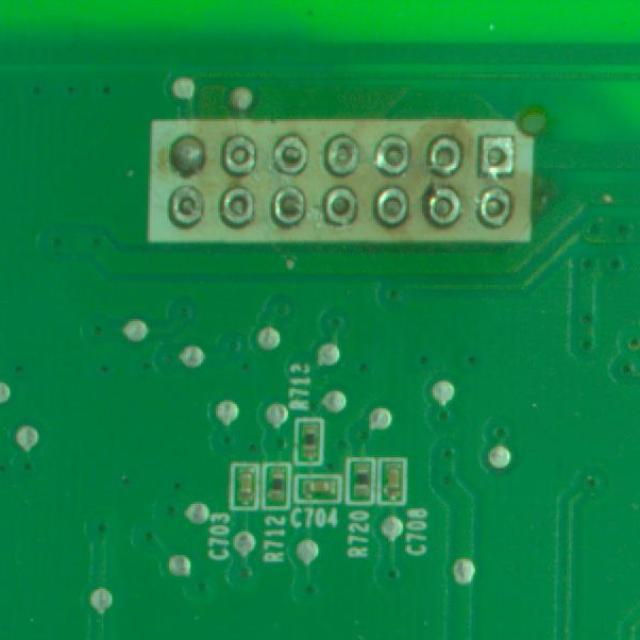Insufficient solder: (473, 128, 519, 180), (418, 182, 464, 230), (164, 176, 204, 228), (476, 183, 518, 232), (374, 128, 412, 180), (221, 128, 260, 178), (322, 133, 362, 180), (373, 183, 413, 228), (426, 132, 464, 178), (271, 134, 311, 174), (320, 189, 360, 229), (220, 185, 255, 229), (271, 183, 308, 224)
